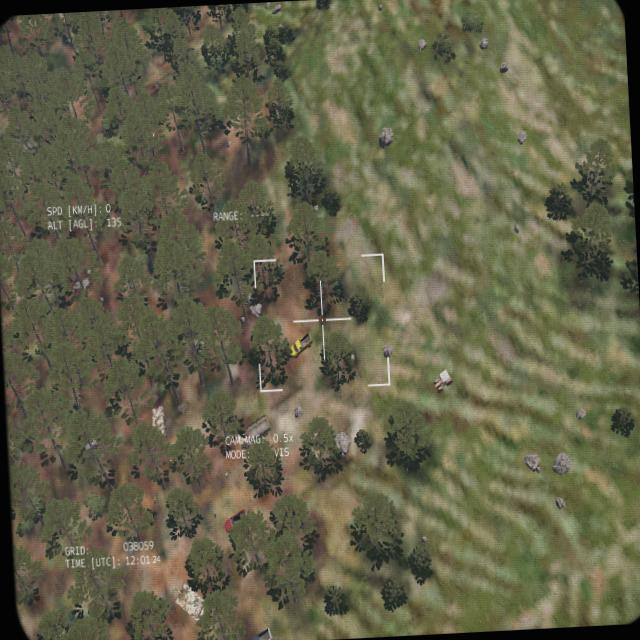apc: (150, 405, 167, 443)
car: (286, 328, 315, 358), (218, 506, 249, 534)
tank: (166, 577, 208, 621)
truck: (231, 414, 272, 446)
